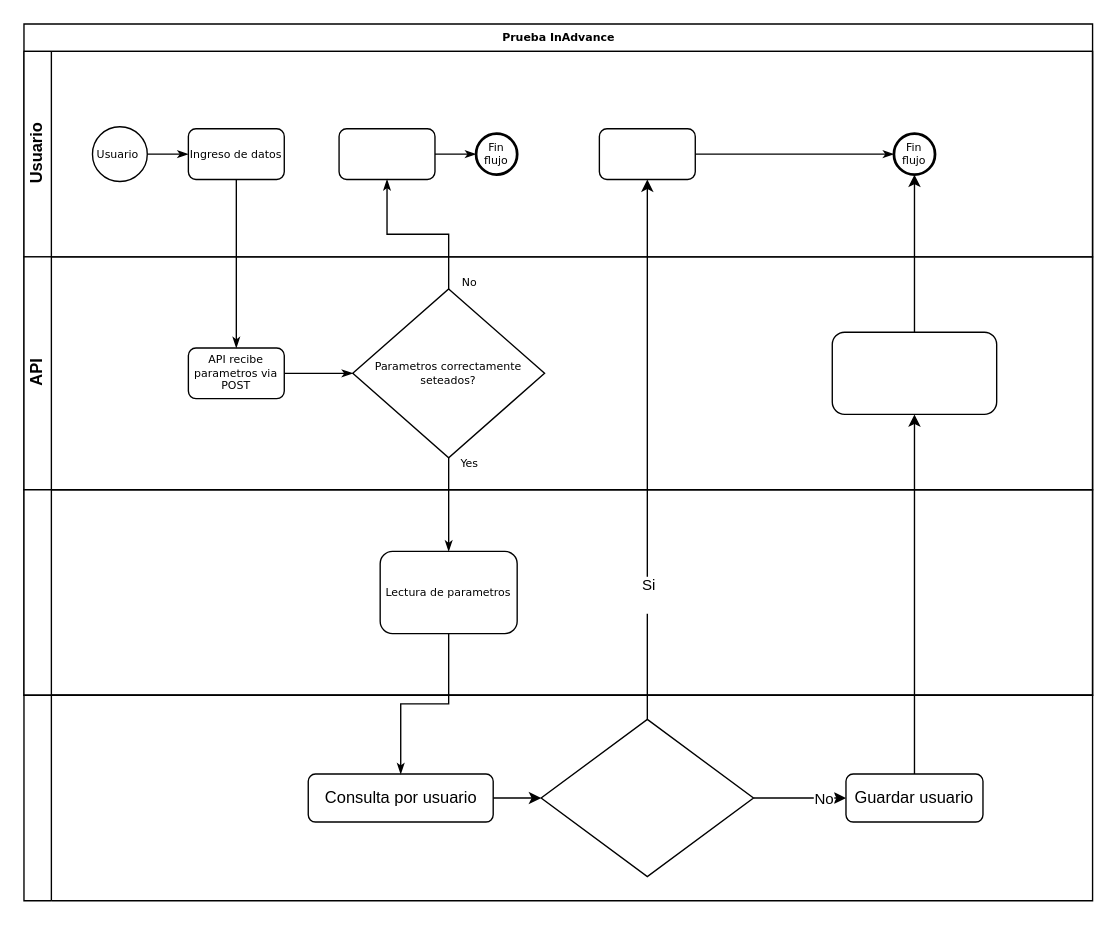
The diagram is 1117 pixels wide and 925 high, and some of its shapes have lost their labels. The shapes that lost their labels are listed below. From the top down, each one's box as (x1, y1, x2, y2) in pixels, then its label:
(338, 127, 435, 179): Muetra detalle de errores en parametros
(598, 127, 695, 179): Indicar que usuario existe
(831, 331, 997, 414): API responde al usuario con información de usuario creado
(23, 488, 1093, 695): Servicio
(23, 694, 1093, 901): Base de datos
(540, 718, 754, 877): Email de usuario existe?
